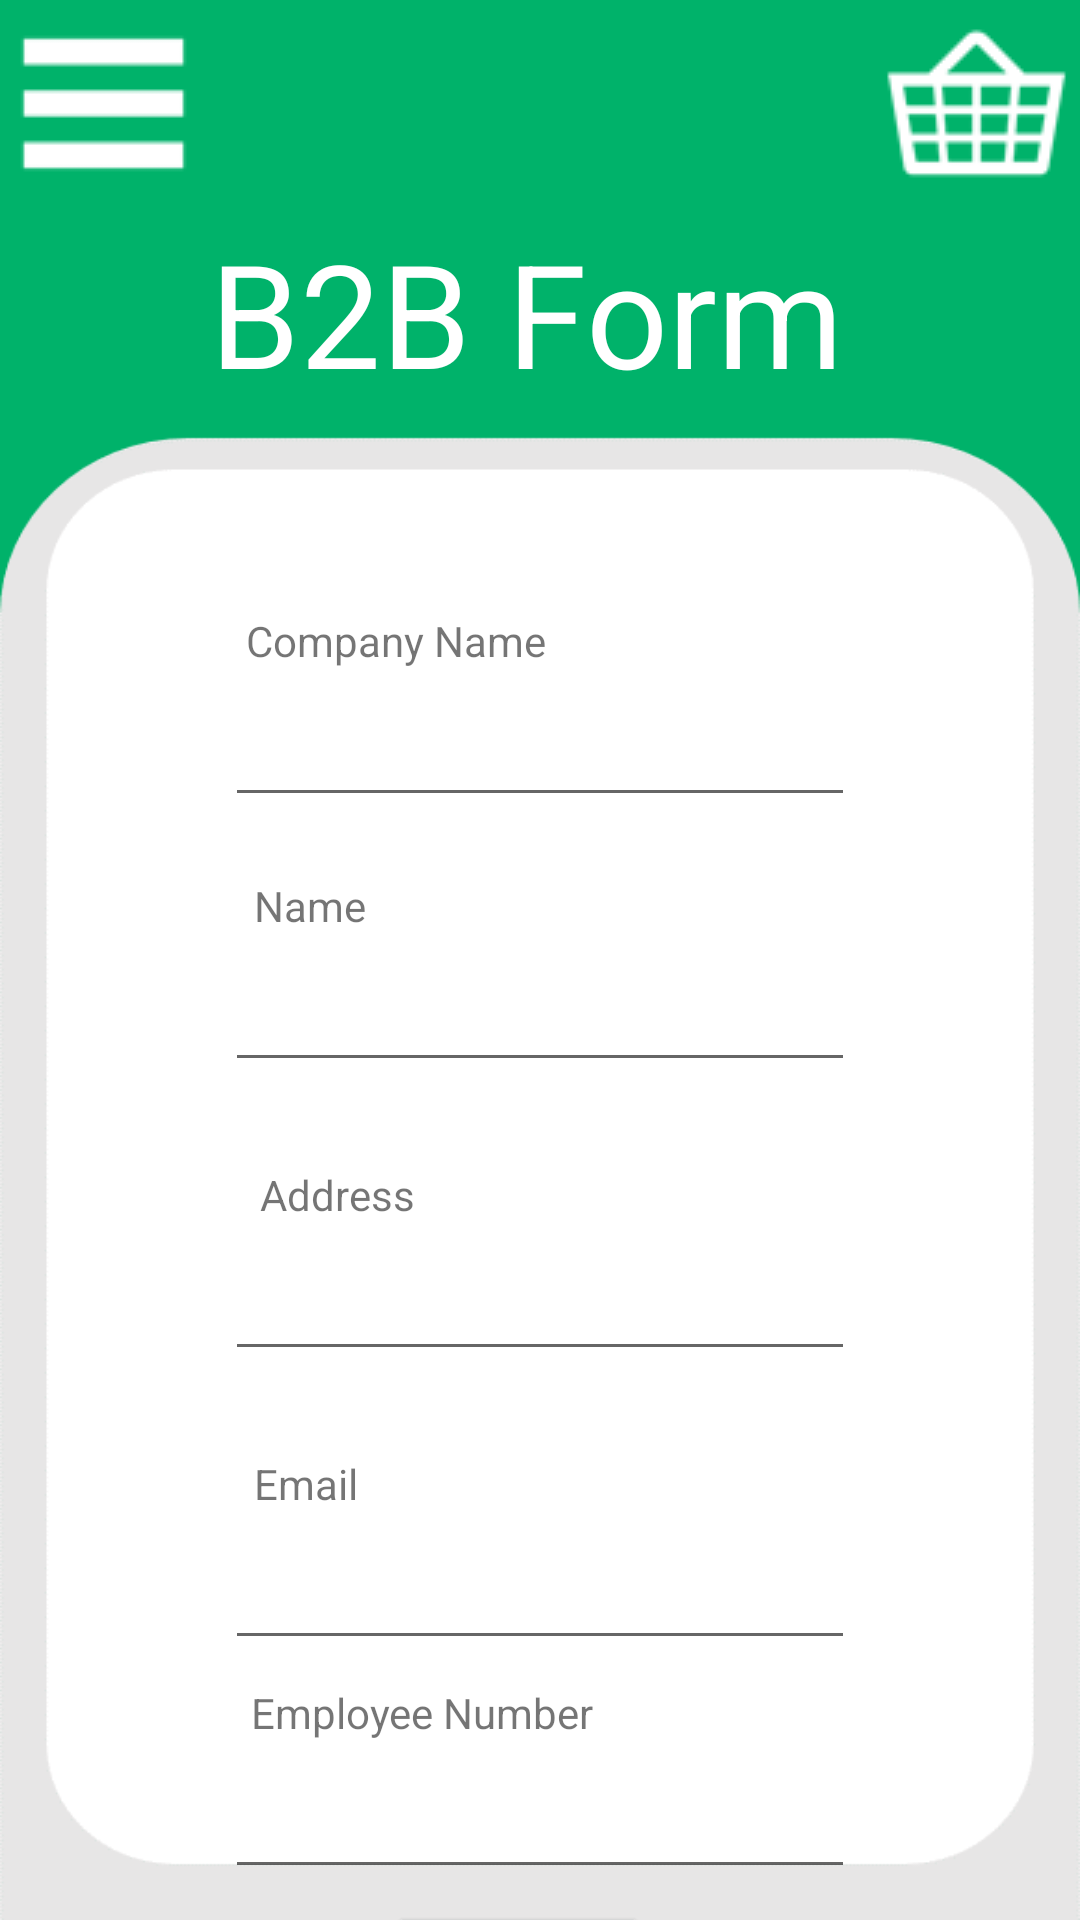

Where to tap for icons on this 1080*1920 app screen, as (x,y):
menu: (103,103)
